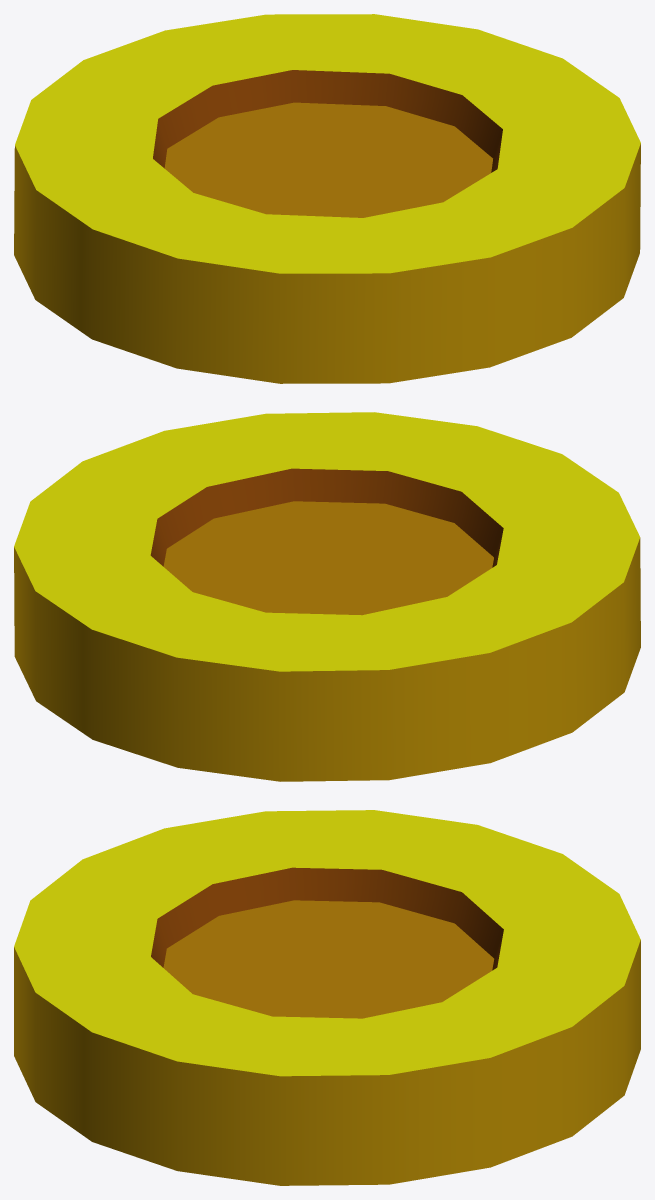
Rendered from coin_1.fbx.
The picture shows the model from 3 angles, top to bottom: view 1: azimuth 30°, elevation 25°; view 2: azimuth 150°, elevation 25°; view 3: azimuth 270°, elevation 25°; orthographic projection.
Parts seen in each view (by area): view 1: Chest_005.001; view 2: Chest_005.001; view 3: Chest_005.001.
Boxes of the visible parts, x1,y1,x2,y2 form: Chest_005.001: [14, 14, 640, 383]; Chest_005.001: [14, 412, 640, 781]; Chest_005.001: [14, 810, 640, 1185].
Bounding box in the file's own units: 0.1282 × 0.026 × 0.1295.
